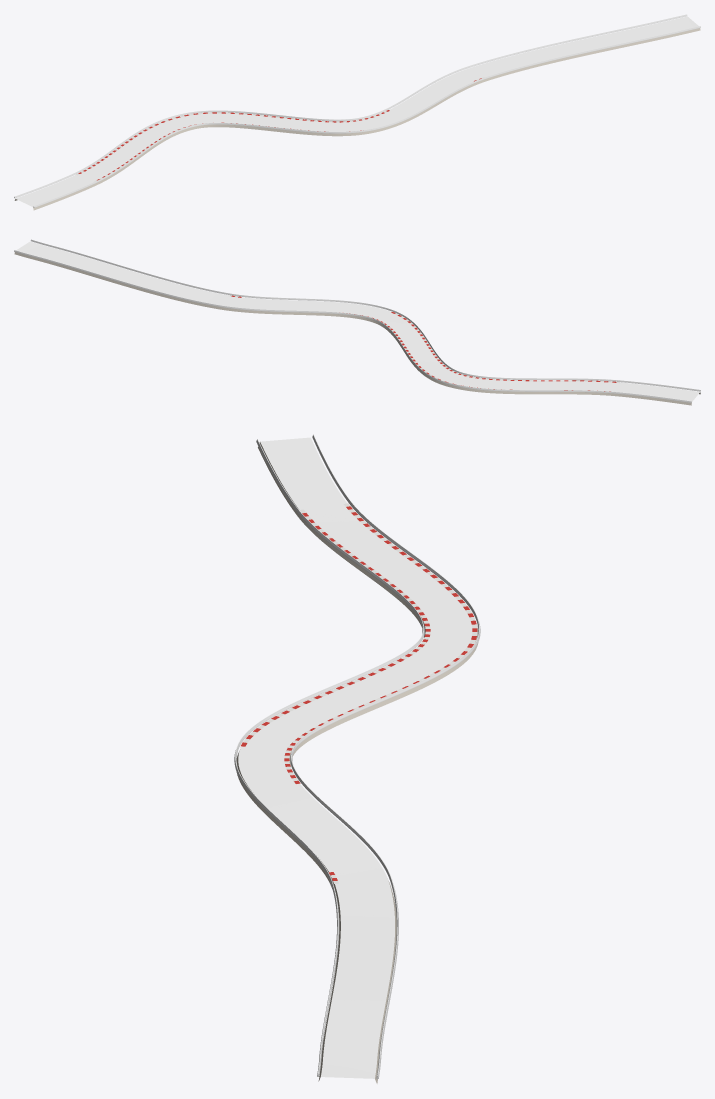
Rendered from SM_RiyadhNights_Track_04.fbx.
3 views of the same model, one above another, from view 1: azimuth 30°, elevation 25°; view 2: azimuth 150°, elevation 25°; view 3: azimuth 270°, elevation 25° (orthographic). The views are drawn at different scales.
Parts seen in each view (by area): view 1: SM_RiyadhNights_Track_04; view 2: SM_RiyadhNights_Track_04; view 3: SM_RiyadhNights_Track_04.
Boxes of the visible parts, <box> form: SM_RiyadhNights_Track_04: <box>14,14,700,210</box>; SM_RiyadhNights_Track_04: <box>14,239,700,405</box>; SM_RiyadhNights_Track_04: <box>234,434,480,1083</box>.
Size of the model in its own units: 39412 by 372 by 6354.
